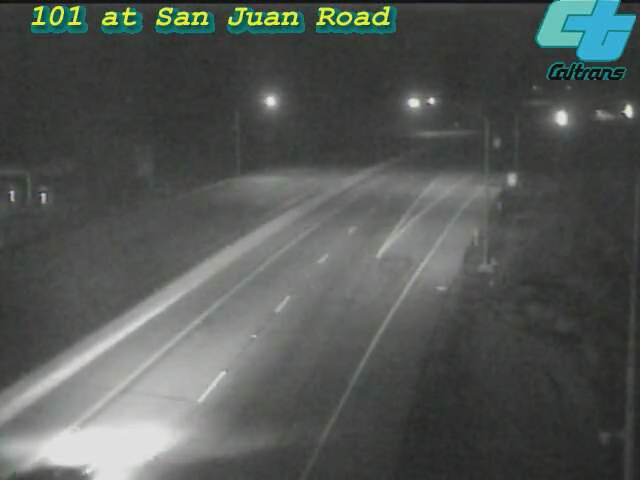vehicle: (1, 417, 102, 480), (578, 92, 628, 142), (537, 94, 587, 144), (602, 86, 640, 136)
